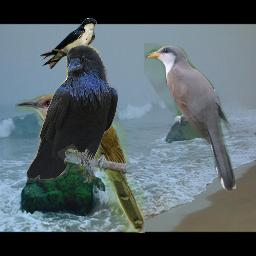Crow: (27, 44, 118, 183)
Cuckoo: (15, 94, 145, 233), (144, 43, 240, 194)
Swallow: (38, 18, 97, 69)
